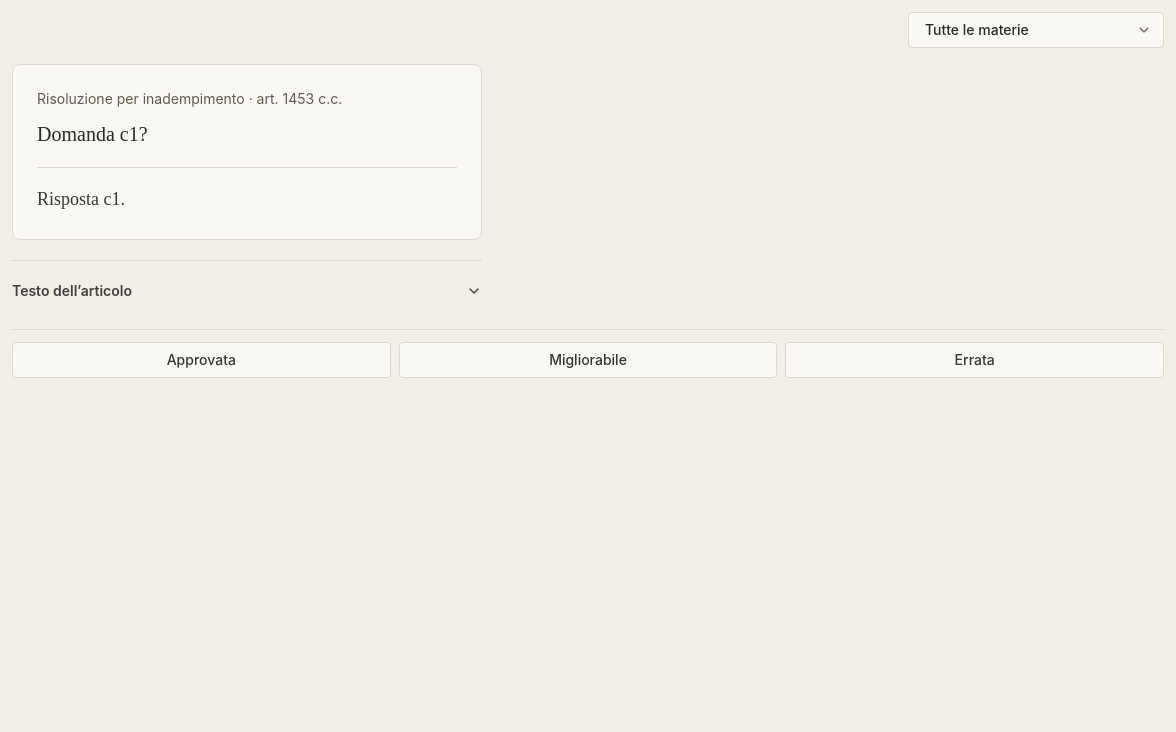
Test: «Da validare», the card and its article › puts the article in a collapsed section under the card on a phone, and reads it only once opened
Expected: the text "Domanda c1?" is shown, [37,123,148,145]
Click the button "Testo dell’articolo": x=72, y=290 [12,269,482,313]
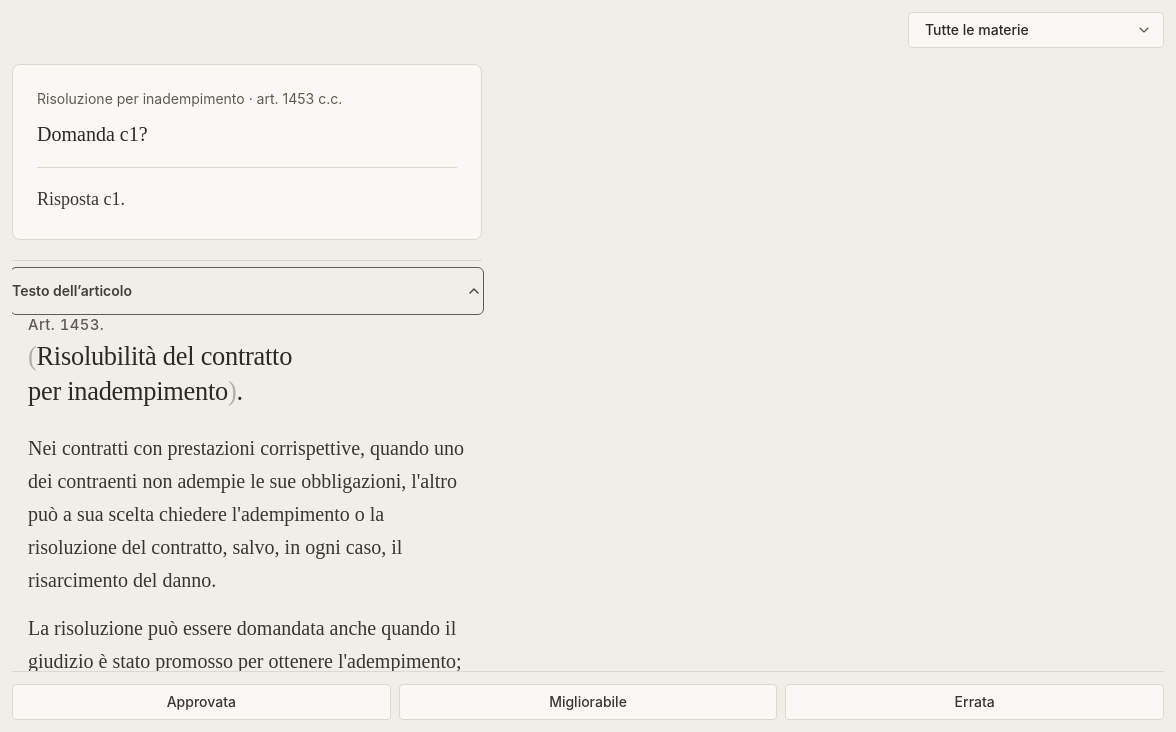
Expected: the button "Testo dell’articolo" is expanded, [12,269,482,313]
Expected: the text "Nei contratti con prestazioni corrispettive" is shown, [28,437,464,591]
